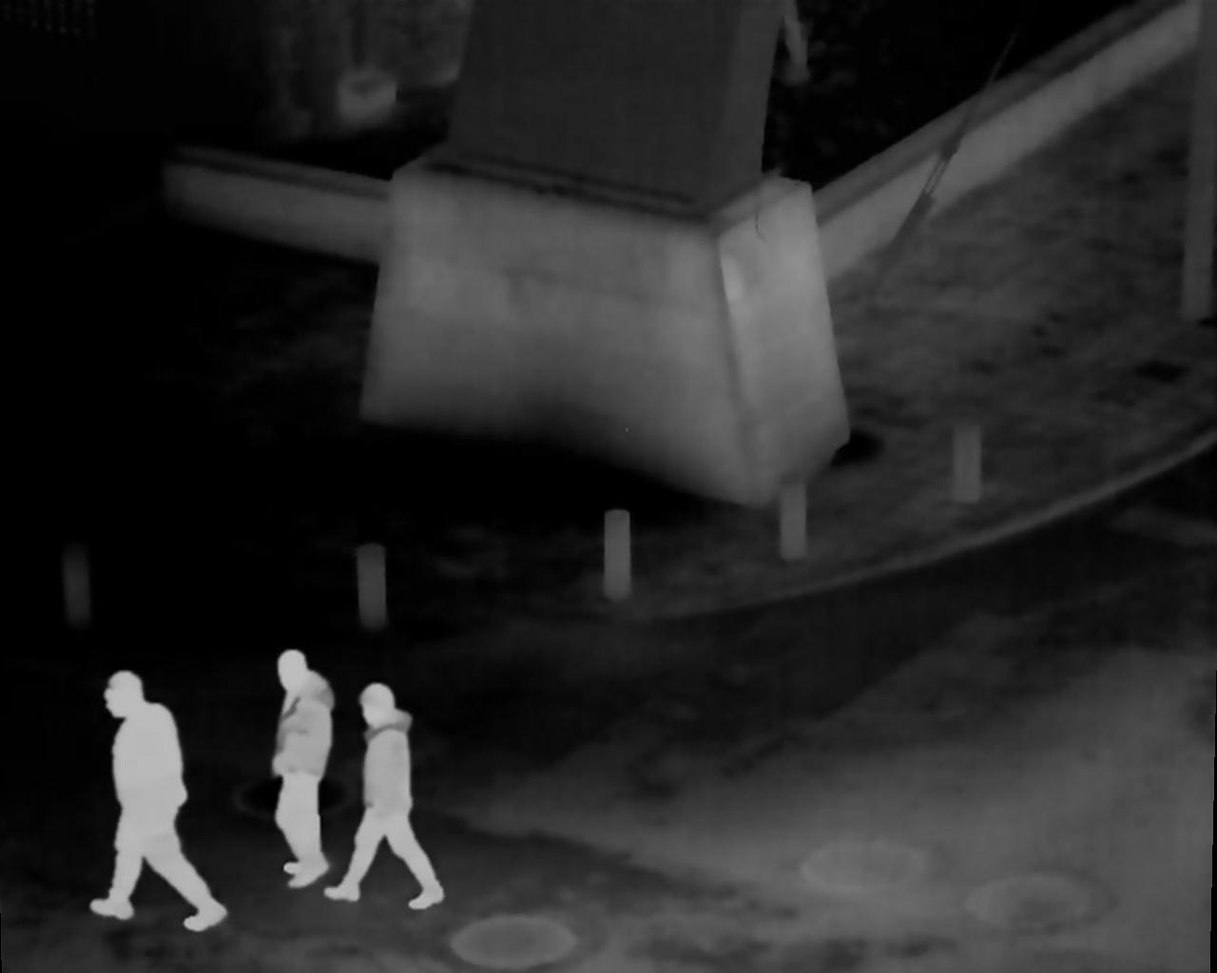person: (92, 669, 234, 934), (350, 682, 446, 911), (275, 646, 337, 901)
